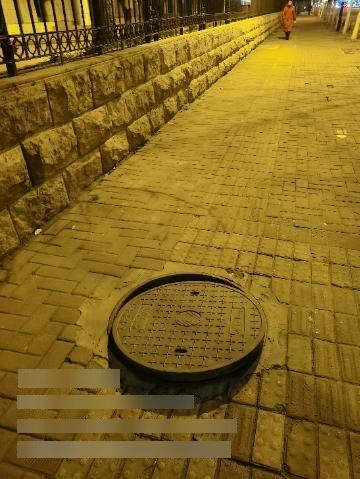wellcover: (102, 268, 274, 376)
